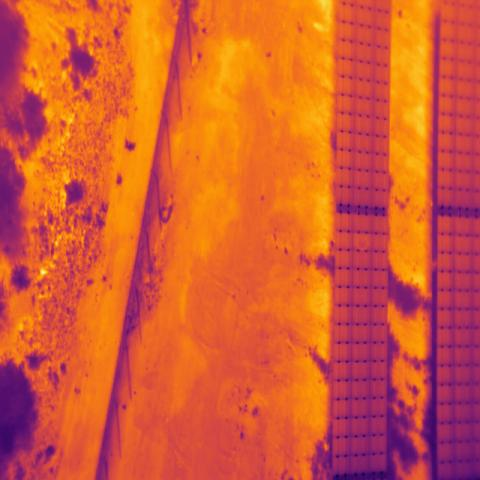fault: (353, 232, 371, 252)
